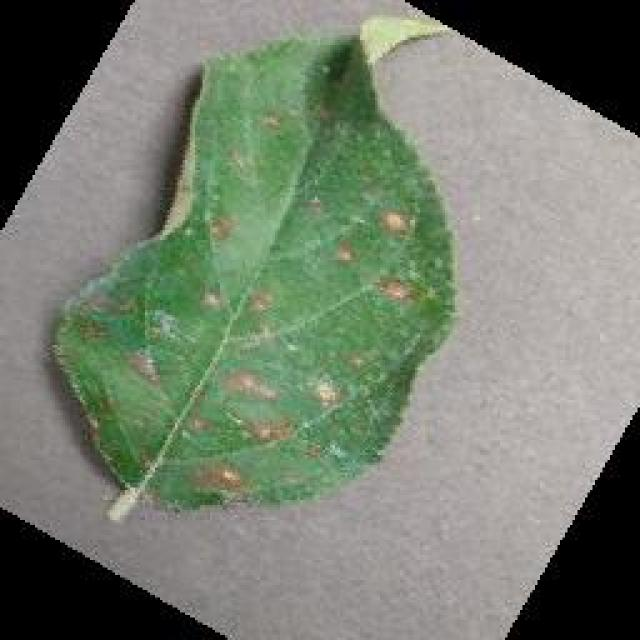apple rust disease: (48, 10, 460, 520)
